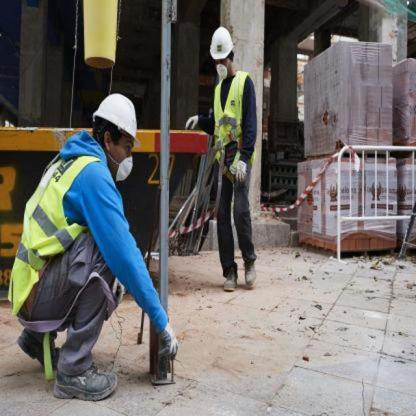bota: (51, 342, 119, 402), (242, 254, 258, 289), (221, 261, 239, 291)
capacete: (91, 92, 138, 181), (210, 26, 236, 76)
